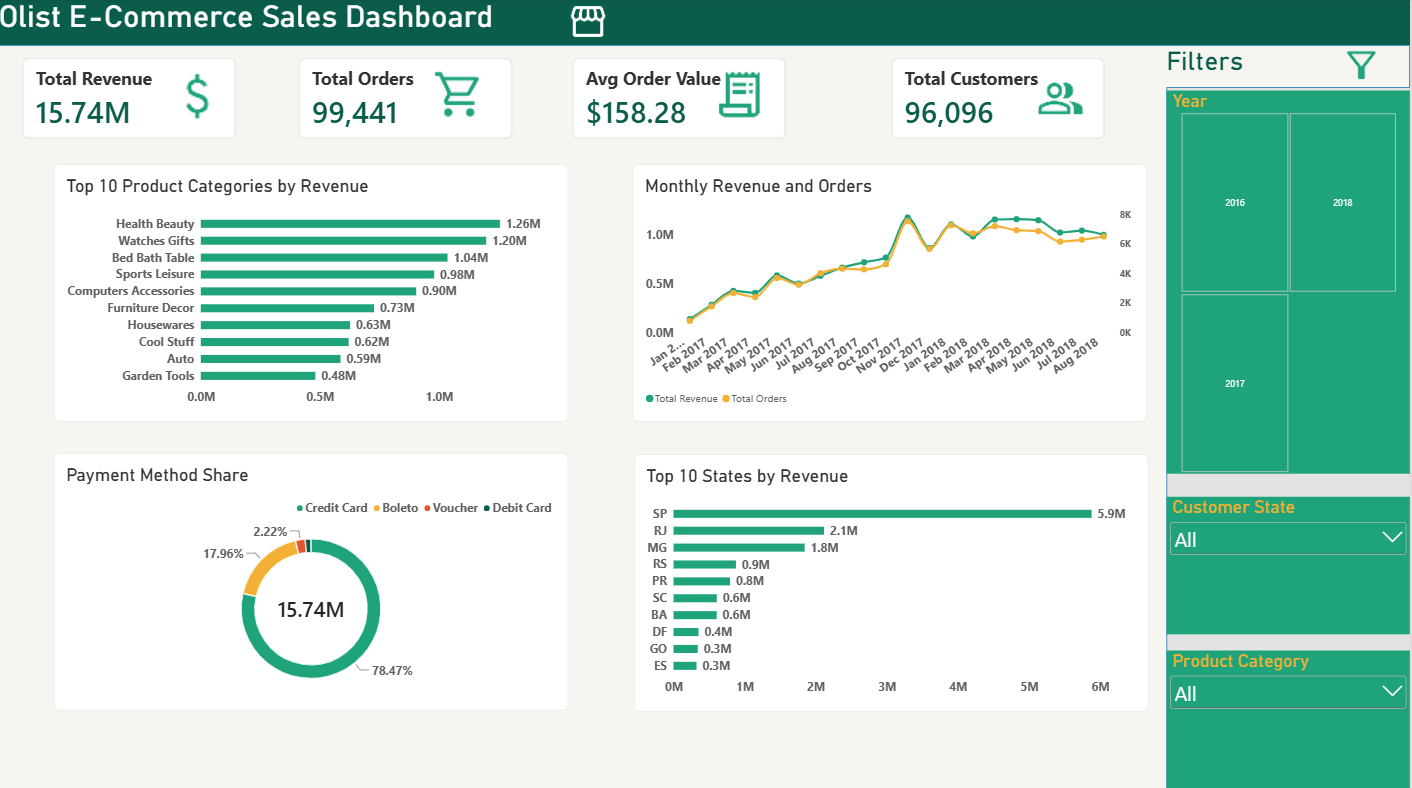

The dashboard page shown, as its layout file describes it:
{"tool":"powerbi","page":{"name":"Page 1","canvas":[1920,1080],"ordinal":0},"visuals":[{"type":"shape","title":"Olist E-Commerce Sales Dashboard","box":[0,0,1920.4,1080.6],"z":0},{"type":"cardVisual","fields":{"Data":["orders.Total Revenue"]},"box":[32,81.9,290,110],"z":1000},{"type":"image","box":[215.4,94.3,107,80.3],"z":2000},{"type":"cardVisual","fields":{"Data":["orders.Total Orders"]},"box":[407.6,81.9,290,110],"z":3000},{"type":"image","box":[583.8,96.1,84.4,72],"z":4000},{"type":"cardVisual","fields":{"Data":["orders.Avg Order Value"]},"box":[781.3,81.9,290,110],"z":5000},{"type":"image","box":[961.1,94.3,92.6,74.1],"z":6000},{"type":"cardVisual","fields":{"Data":["order_reviews.Total Customers"]},"box":[1215.6,81.9,290,110],"z":7000},{"type":"image","box":[1398.9,103.2,92.6,65.9],"z":8000},{"type":"lineChart","title":"Monthly Revenue and Orders","fields":{"Category":["Calender.Month Year"],"Y":["orders.Total Revenue"],"Y2":["orders.Total Orders"]},"box":[863.2,226,700,350],"z":9000},{"type":"clusteredBarChart","title":"Top 10 Product Categories by Revenue","fields":{"Category":["product_category_translation.product_category_name_english"],"Y":["order_items.Item Revenue"]},"box":[74.7,226,700,350],"z":10000},{"type":"clusteredBarChart","title":"Top 10 States by Revenue","fields":{"Category":["customers.customer_state"],"Y":["orders.Total Revenue"]},"box":[865,621.1,700,350],"z":11000},{"type":"donutChart","title":"Payment Method Share","fields":{"Category":["order_payments.payment_type"],"Y":["orders.Total Revenue"]},"box":[74.7,619.4,700,350],"z":12000},{"type":"shape","title":"Filters","box":[1589,63.8,333.4,1016.8],"z":13000},{"type":"slicer","fields":{"Values":["Calender.Year"]},"box":[1589,125.6,331.4,521.5],"z":14000},{"type":"slicer","fields":{"Values":["customers.customer_state"]},"box":[1588.6,679,331.4,187.3],"z":15000},{"type":"slicer","fields":{"Values":["product_category_translation.product_category_name_english"]},"box":[1588.6,888,331.4,192.7],"z":16000},{"type":"image","box":[1825.7,57.6,57.6,67.9],"z":17000},{"type":"image","box":[773.9,0,55.6,63.8],"z":18000}]}

Visuals, with their boxes in screenshot pixels (x1, y1, x2, y2), scaled from the page's 1920x1080 canvas onto the 1412x788 screenshot:
"Olist E-Commerce Sales Dashboard" shape: l=0, t=0, r=1411, b=787
cardVisual - orders.Total Revenue: l=24, t=60, r=237, b=140
image: l=158, t=69, r=237, b=127
cardVisual - orders.Total Orders: l=300, t=60, r=513, b=140
image: l=429, t=70, r=491, b=123
cardVisual - orders.Avg Order Value: l=575, t=60, r=788, b=140
image: l=707, t=69, r=775, b=123
cardVisual - order_reviews.Total Customers: l=894, t=60, r=1107, b=140
image: l=1029, t=75, r=1097, b=123
"Monthly Revenue and Orders" lineChart: l=635, t=165, r=1150, b=420
"Top 10 Product Categories by Revenue" clusteredBarChart: l=55, t=165, r=570, b=420
"Top 10 States by Revenue" clusteredBarChart: l=636, t=453, r=1151, b=709
"Payment Method Share" donutChart: l=55, t=452, r=570, b=707
"Filters" shape: l=1169, t=47, r=1411, b=787
slicer - Calender.Year: l=1169, t=92, r=1411, b=472
slicer - customers.customer_state: l=1168, t=495, r=1411, b=632
slicer - product_category_translation.product_category_name_english: l=1168, t=648, r=1411, b=787
image: l=1343, t=42, r=1385, b=92
image: l=569, t=0, r=610, b=47
